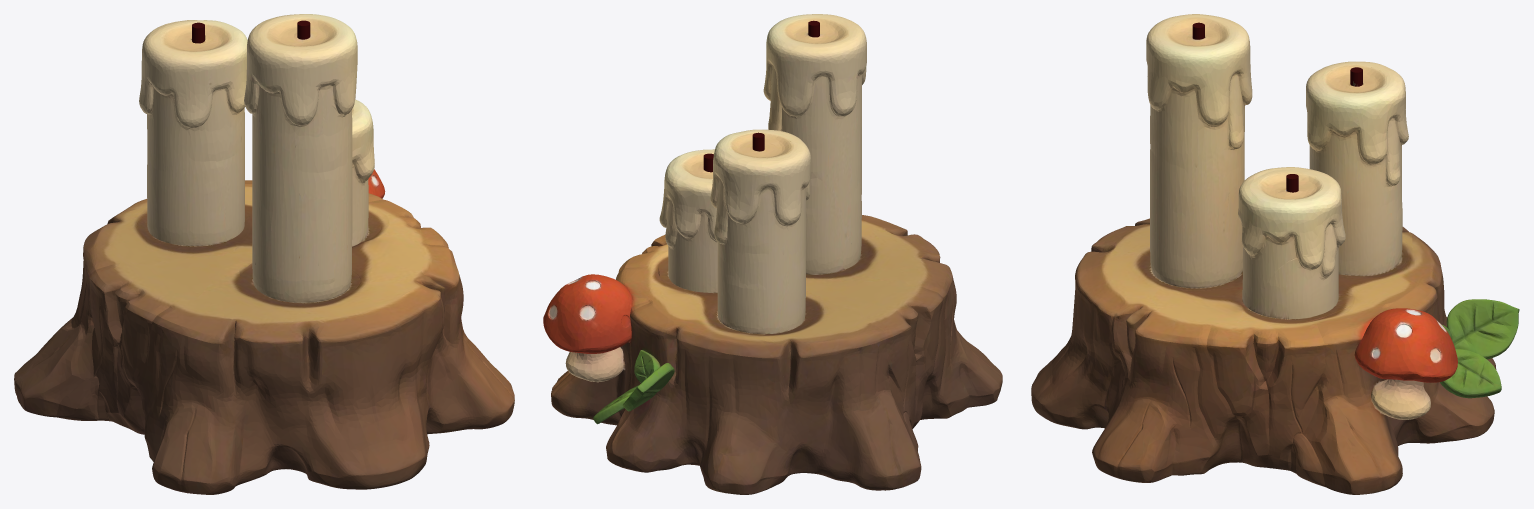
File: candle_9.glb
3 renders of one model, left to right at view 1: azimuth 30°, elevation 25°; view 2: azimuth 150°, elevation 25°; view 3: azimuth 270°, elevation 25°, orthographic. The views are drawn at different scales.
Parts seen in each view (by area): view 1: tripo_node_0c18b73f-7fd8-446b-9af0-297b14f888e6; view 2: tripo_node_0c18b73f-7fd8-446b-9af0-297b14f888e6; view 3: tripo_node_0c18b73f-7fd8-446b-9af0-297b14f888e6.
Boxes of the visible parts, x1,y1,x2,y2 form: tripo_node_0c18b73f-7fd8-446b-9af0-297b14f888e6: (14, 14, 514, 494); tripo_node_0c18b73f-7fd8-446b-9af0-297b14f888e6: (543, 14, 1002, 494); tripo_node_0c18b73f-7fd8-446b-9af0-297b14f888e6: (1031, 14, 1519, 494).
Size of the model in its own units: 0.8578 by 0.8185 by 0.9575.
4 materials, 1 textured.
